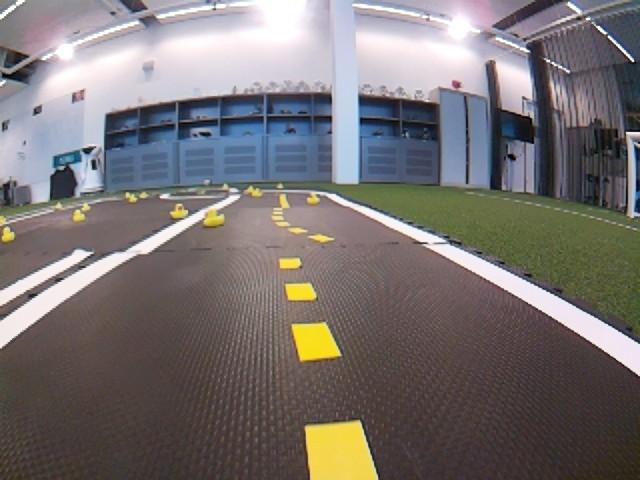Duckies: (202, 209, 224, 227), (169, 204, 188, 219), (2, 226, 15, 243), (306, 192, 320, 204), (72, 210, 86, 221), (80, 203, 91, 211), (252, 190, 263, 197), (129, 194, 136, 203), (139, 192, 147, 199), (0, 216, 5, 225), (222, 184, 229, 190), (125, 192, 132, 198), (277, 183, 283, 189), (56, 203, 63, 208), (247, 186, 254, 191)
